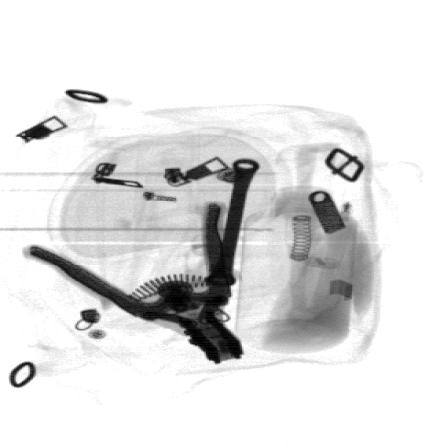Pliers: (27, 203, 245, 365)
Wrench: (205, 158, 259, 288)
